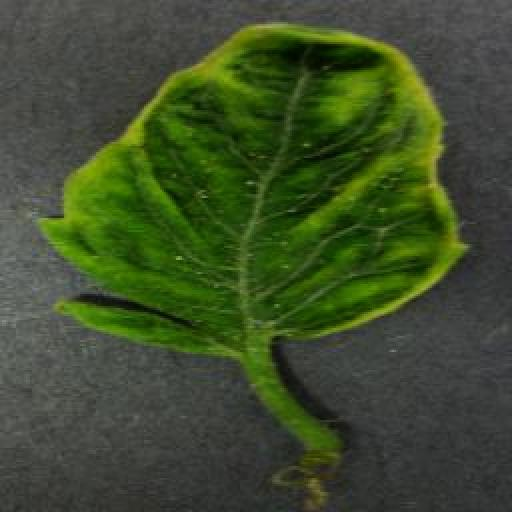disease_tomato: (42, 16, 472, 358)
